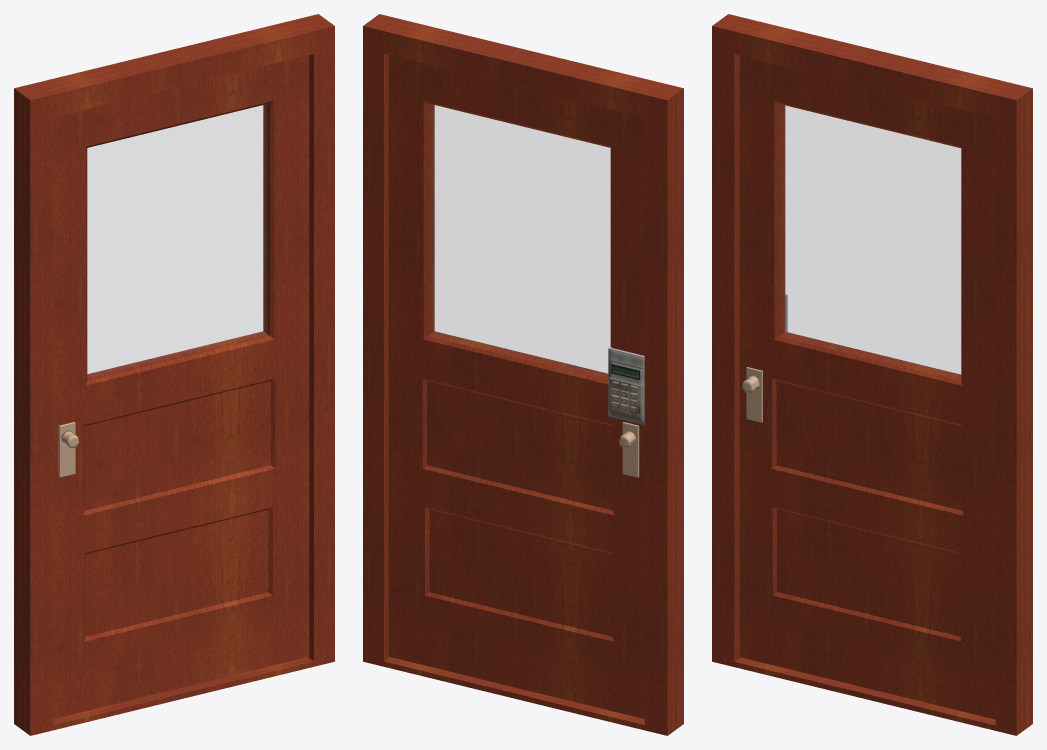
File: DOORwithKEYPAD.fbx
3 views of the same model, side by side, from view 1: azimuth 30°, elevation 25°; view 2: azimuth 150°, elevation 25°; view 3: azimuth 330°, elevation 25° (orthographic).
Visible parts, largest first — view 1: door, aldoor, polySurface1; view 2: door, aldoor, pCube1, polySurface3; view 3: door, aldoor, polySurface1.
Part boxes in pixels (left/top/right/bottom): door: left=53, top=55, right=309, bottom=718; aldoor: left=14, top=14, right=334, bottom=735; polySurface1: left=58, top=422, right=75, bottom=477; door: left=388, top=55, right=644, bottom=718; aldoor: left=363, top=14, right=683, bottom=735; pCube1: left=608, top=347, right=644, bottom=424; polySurface3: left=622, top=422, right=639, bottom=477; door: left=739, top=55, right=995, bottom=719; aldoor: left=712, top=14, right=1032, bottom=735; polySurface1: left=746, top=367, right=762, bottom=422.
Size of the model in its own units: 10.44 by 20.83 by 1.48.
Materials: 4 (2 with a texture image).
